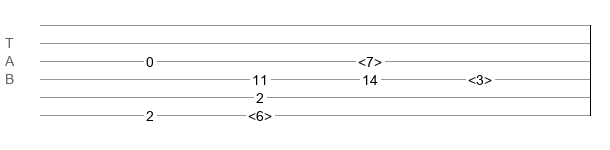0: (146, 54, 154, 64)
11: (252, 72, 268, 82)
14: (362, 72, 378, 82)
2: (146, 108, 154, 118), (256, 90, 264, 100)
harmonic: (248, 108, 272, 118), (358, 54, 382, 64), (468, 72, 492, 82)
